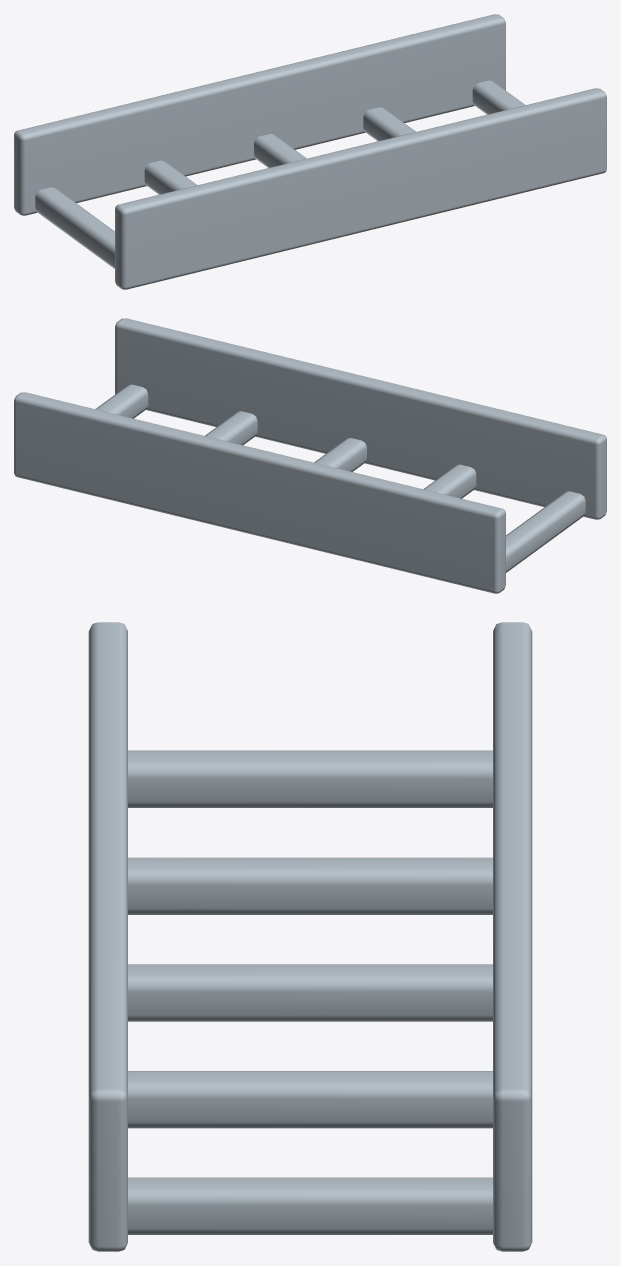
File: Connection_CableTray.fbx
3 views of the same model, one above another, from view 1: azimuth 30°, elevation 25°; view 2: azimuth 150°, elevation 25°; view 3: azimuth 270°, elevation 25° (orthographic). The views are drawn at different scales.
Visible parts, largest first — view 1: Rail, Rail.001, Rung, Rung.004, Rung.001, Rung.003, Rung.002; view 2: Rail.001, Rail, Rung, Rung.004, Rung.001, Rung.003, Rung.002; view 3: Rail, Rail.001, Rung, Rung.001, Rung.002, Rung.003, Rung.004.
Part boxes in pixels (x1,y1,x2,y2): Rail: (115,88,606,289); Rail.001: (14,14,505,215); Rung: (35,187,114,268); Rung.004: (472,80,525,114); Rung.001: (144,160,197,194); Rung.003: (363,107,415,141); Rung.002: (254,134,306,167); Rail.001: (14,392,505,593); Rail: (115,318,606,519); Rung: (506,491,585,572); Rung.004: (95,384,148,418); Rung.001: (423,464,476,498); Rung.003: (205,411,257,445); Rung.002: (314,438,366,471); Rail: (88,622,127,1251); Rail.001: (493,622,532,1251); Rung: (128,750,492,807); Rung.001: (128,857,492,914); Rung.002: (128,964,492,1021); Rung.003: (128,1071,492,1128); Rung.004: (128,1177,492,1234).
Size of the model in its own units: 1 by 0.16 by 0.395.
